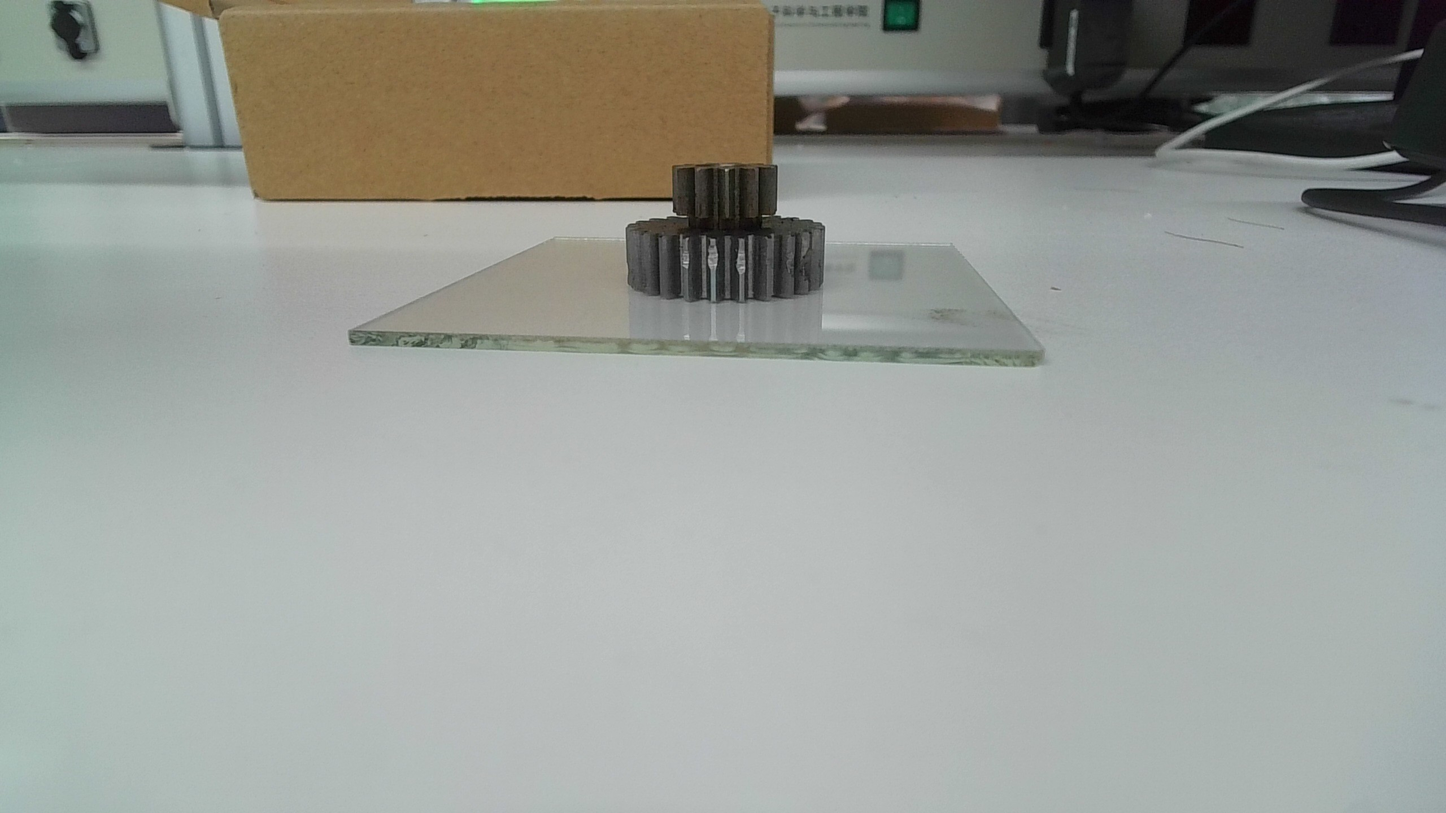gear: (621, 158, 829, 304)
